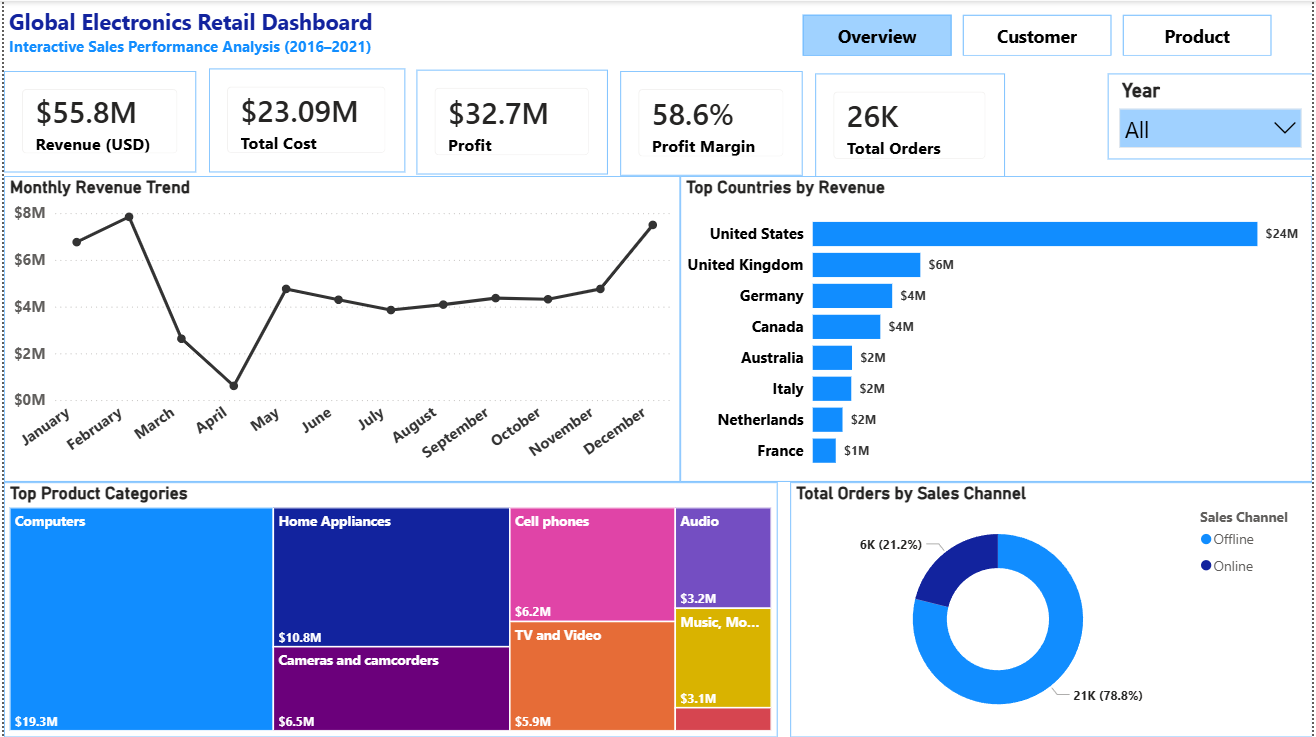

The dashboard page shown, as its layout file describes it:
{"tool":"powerbi","page":{"name":"Overview","canvas":[1280,720],"ordinal":0},"visuals":[{"type":"cardVisual","fields":{"Data":["Measures_Table.Total Revenue"]},"box":[0,68.5,188.3,99],"z":0},{"type":"cardVisual","fields":{"Data":["Measures_Table.Total Cost"]},"box":[200.5,66.5,192,101.5],"z":1000},{"type":"cardVisual","fields":{"Data":["Measures_Table.Profit"]},"box":[403.5,67,187.1,102.7],"z":2000},{"type":"cardVisual","fields":{"Data":["Measures_Table.Profit Margin"]},"box":[602.9,68.7,178.5,102.7],"z":3000},{"type":"lineChart","title":"Monthly Revenue Trend","fields":{"Y":["Measures_Table.Revenue (USD)"],"Category":["Calendar.Date.Variation.Date Hierarchy.Month"]},"box":[0,171.2,661.6,299.6],"z":4000},{"type":"slicer","fields":{"Values":["Calendar.Year"]},"box":[1079.8,70.9,200.5,84.4],"z":5000},{"type":"cardVisual","fields":{"Data":["Measures_Table.Total Orders"]},"box":[793.6,70.4,185.9,102.7],"z":6000},{"type":"clusteredBarChart","title":"Top Countries by Revenue","fields":{"Category":["Stores.Country"],"Y":["Measures_Table.Revenue (USD)"]},"box":[661.6,171.2,618.8,299.6],"z":7000},{"type":"treemap","title":"Top Product Categories","fields":{"Group":["Products.Category"],"Values":["Measures_Table.Revenue (USD)"]},"box":[0,470.8,756.9,249.5],"z":8000},{"type":"textbox","box":[0,0,379.1,68.5],"z":9000},{"type":"donutChart","fields":{"Category":["Sales.Sales Channel"],"Y":["Measures_Table.Total Orders"]},"box":[769.2,470.8,511.1,249.5],"z":10000},{"type":"actionButton","title":"Overview","box":[781.4,13.5,145.5,40.4],"z":10001},{"type":"actionButton","box":[937.9,13.5,145.5,40.4],"z":10002},{"type":"actionButton","box":[1094.4,13.5,145.5,40.4],"z":10003}]}

Visuals, with their boxes in screenshot pixels (x1, y1, x2, y2), scaled from the page's 1280x720 canvas onto the 1316x737 screenshot:
cardVisual - Measures_Table.Total Revenue: {"x1": 0, "y1": 70, "x2": 194, "y2": 171}
cardVisual - Measures_Table.Total Cost: {"x1": 206, "y1": 68, "x2": 404, "y2": 172}
cardVisual - Measures_Table.Profit: {"x1": 415, "y1": 69, "x2": 607, "y2": 174}
cardVisual - Measures_Table.Profit Margin: {"x1": 620, "y1": 70, "x2": 803, "y2": 175}
"Monthly Revenue Trend" lineChart: {"x1": 0, "y1": 175, "x2": 680, "y2": 482}
slicer - Calendar.Year: {"x1": 1110, "y1": 73, "x2": 1315, "y2": 159}
cardVisual - Measures_Table.Total Orders: {"x1": 816, "y1": 72, "x2": 1007, "y2": 177}
"Top Countries by Revenue" clusteredBarChart: {"x1": 680, "y1": 175, "x2": 1315, "y2": 482}
"Top Product Categories" treemap: {"x1": 0, "y1": 482, "x2": 778, "y2": 736}
textbox: {"x1": 0, "y1": 0, "x2": 390, "y2": 70}
donutChart - Sales.Sales Channel x Measures_Table.Total Orders: {"x1": 791, "y1": 482, "x2": 1315, "y2": 736}
"Overview" actionButton: {"x1": 803, "y1": 14, "x2": 953, "y2": 55}
actionButton: {"x1": 964, "y1": 14, "x2": 1114, "y2": 55}
actionButton: {"x1": 1125, "y1": 14, "x2": 1275, "y2": 55}
